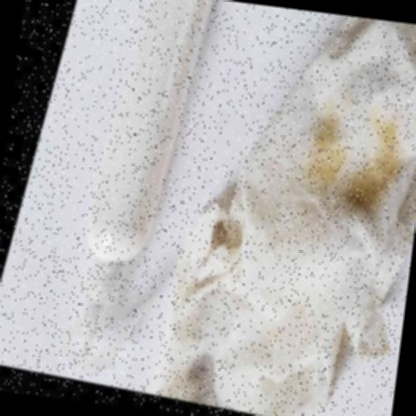coffee: (309, 127, 341, 177), (370, 121, 403, 169), (349, 171, 382, 210)
